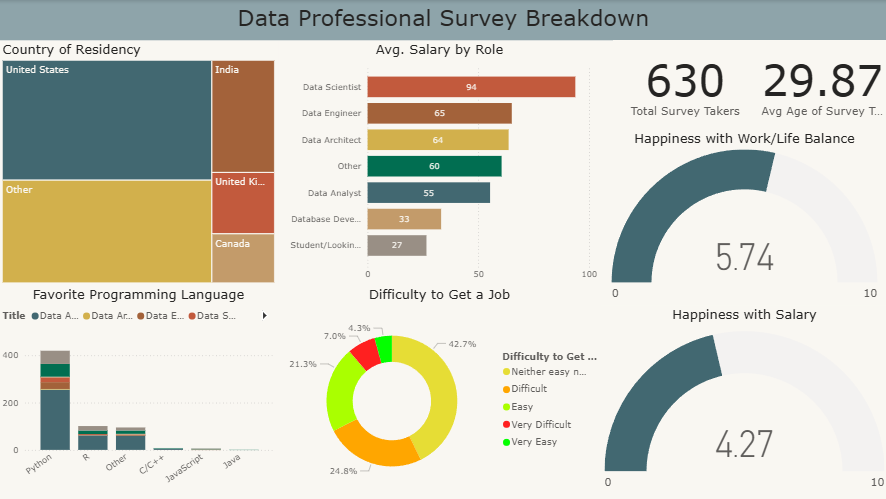

Layout of this report page (visuals, bound fields, positions):
{"tool":"powerbi","page":{"name":"Page 1","canvas":[1280,720],"ordinal":0},"visuals":[{"type":"textbox","box":[0,0,1280,58],"z":0},{"type":"card","fields":{"Values":["Count(Data Professional Survey.Unique ID)"]},"box":[884,58,208,128],"z":1000},{"type":"card","fields":{"Values":["Avg(Data Professional Survey.Q10 - Current Age)"]},"box":[1092,58,188,128],"z":2000},{"type":"barChart","title":"Avg. Salary by Role","fields":{"Category":["Data Professional Survey.Q1 - Which Title Best Fits your Current Role?.1"],"Y":["Avg(Data Professional Survey.Average Salary)"],"Series":["Data Professional Survey.Q1 - Which Title Best Fits your Current Role?.1"]},"box":[401.7,58.3,465,353.3],"z":3000},{"type":"columnChart","title":"Favorite Programming Language","fields":{"Category":["Data Professional Survey.Q5 - Favorite Programming Language.1"],"Y":["Count(Data Professional Survey.Unique ID)"],"Series":["Data Professional Survey.Q1 - Which Title Best Fits your Current Role?.1"]},"box":[0,411.7,401.7,308.3],"z":4000},{"type":"treemap","title":"Country of Residency","fields":{"Group":["Data Professional Survey.Q11 - Which Country do you live in?.1"],"Values":["CountNonNull(Data Professional Survey.Q11 - Which Country do you live in?.1)"]},"box":[0,58.3,401.7,353.3],"z":5000},{"type":"gauge","title":"Happiness with Work/Life Balance","fields":{"Y":["Avg(Data Professional Survey.Q6 - How Happy are you in your Current Position with the following? (Work/Life Balance))"],"MinValue":["Min(Data Professional Survey.Q6 - How Happy are you in your Current Position with the following? (Work/Life Balance))"],"MaxValue":["Max(Data Professional Survey.Q6 - How Happy are you in your Current Position with the following? (Work/Life Balance))1"]},"box":[866.7,186.7,413.3,253.3],"z":6000},{"type":"gauge","title":"Happiness with Salary","fields":{"Y":["Avg(Data Professional Survey.Q6 - How Happy are you in your Current Position with the following? (Salary))"],"MinValue":["Min(Data Professional Survey.Q6 - How Happy are you in your Current Position with the following? (Salary))"],"MaxValue":["Max(Data Professional Survey.Q6 - How Happy are you in your Current Position with the following? (Salary))1"]},"box":[866.7,440,413.3,280],"z":7000},{"type":"donutChart","title":"Difficulty to Get a Job","fields":{"Category":["Data Professional Survey.Q7 - How difficult was it for you to break into Data?"],"Y":["CountNonNull(Data Professional Survey.Q7 - How difficult was it for you to break into Data?)"]},"box":[401.7,411.7,465,308.3],"z":8000}]}

Visuals, with their boxes in screenshot pixels (x1, y1, x2, y2), scaled from the page's 1280x720 canvas onto the 886x499 screenshot:
textbox: (x1=0, y1=0, x2=885, y2=40)
card - Count(Data Professional Survey.Unique ID): (x1=612, y1=40, x2=756, y2=129)
card - Avg(Data Professional Survey.Q10 - Current Age): (x1=756, y1=40, x2=885, y2=129)
"Avg. Salary by Role" barChart: (x1=278, y1=40, x2=600, y2=285)
"Favorite Programming Language" columnChart: (x1=0, y1=285, x2=278, y2=498)
"Country of Residency" treemap: (x1=0, y1=40, x2=278, y2=285)
"Happiness with Work/Life Balance" gauge: (x1=600, y1=129, x2=885, y2=305)
"Happiness with Salary" gauge: (x1=600, y1=305, x2=885, y2=498)
"Difficulty to Get a Job" donutChart: (x1=278, y1=285, x2=600, y2=498)
